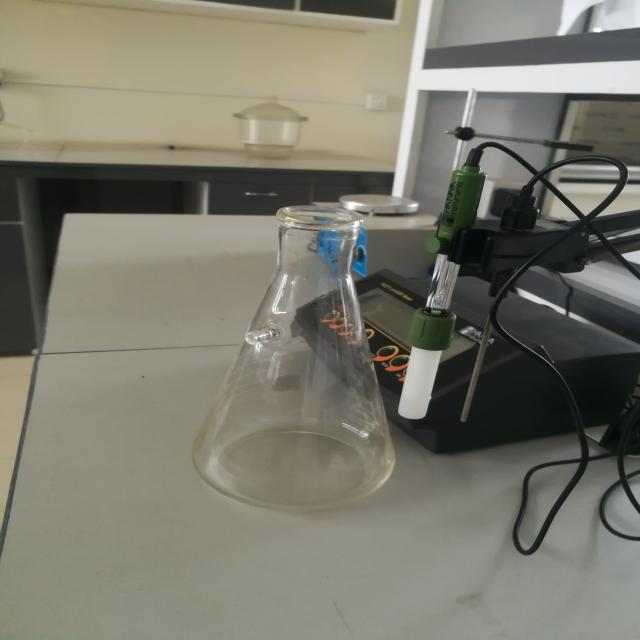Conical_Flask: (144, 167, 436, 526)
